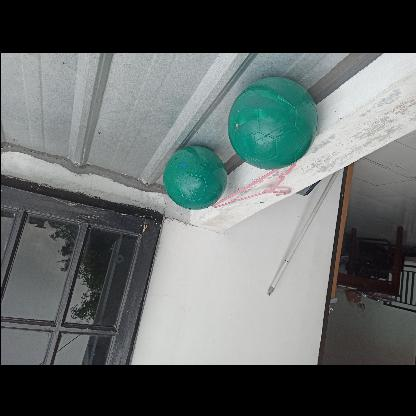green_ball: (226, 80, 316, 170), (160, 146, 224, 210)
